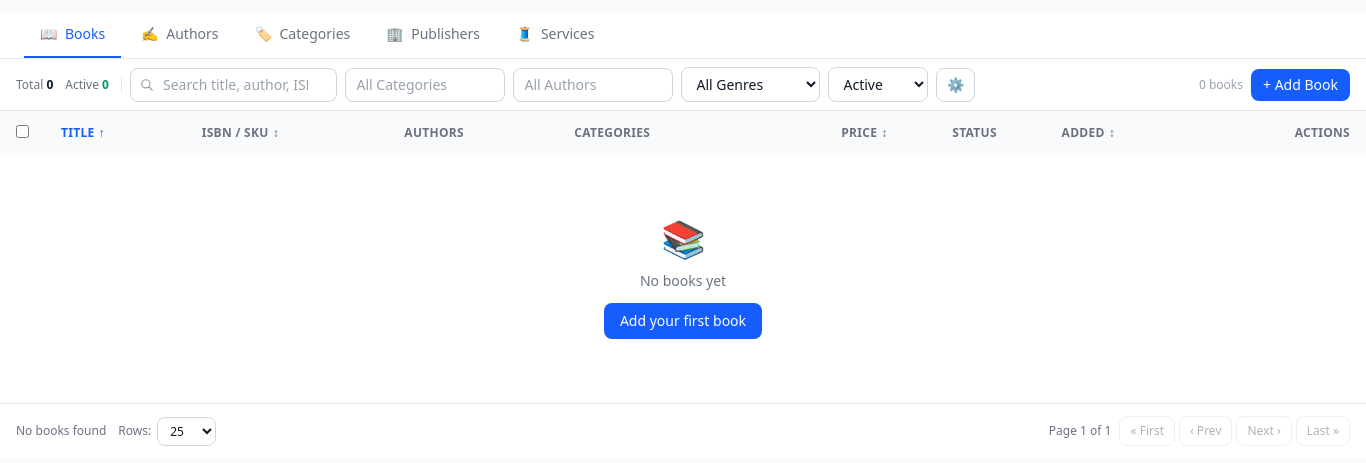
Test case: Catalog reference tabs: paging › cannot page past the end of an empty list (was: Next and Last led to empty pages)
Click the button "✍️ Authors".
click(180, 35)  # box [125,12,234,58]
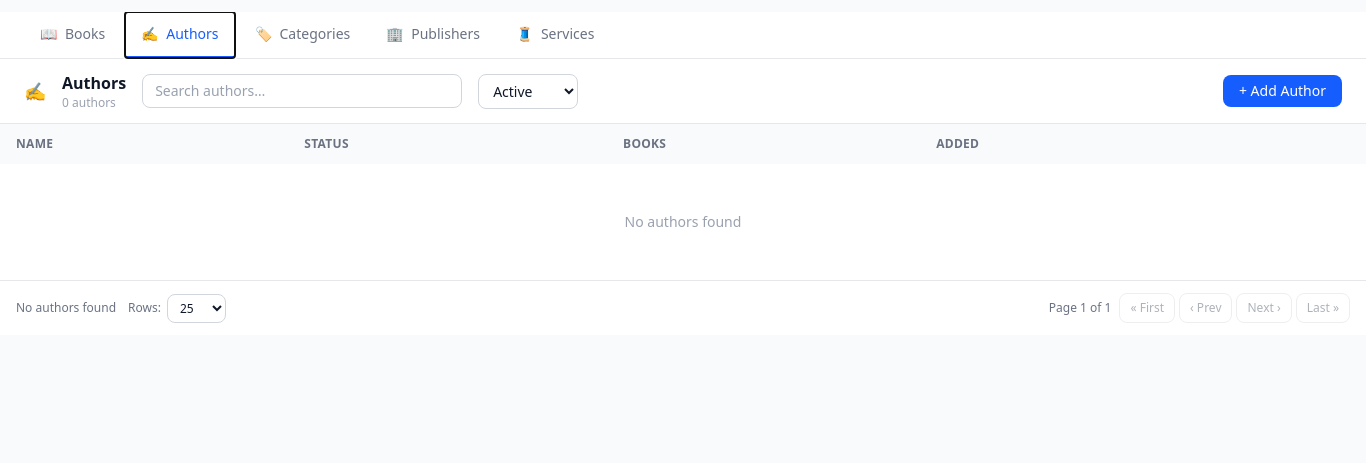
Expected: the button "Next ›" is disabled, [1236,293,1292,323]
Result: the text "No authors found" is shown at [0,164,1365,280]
